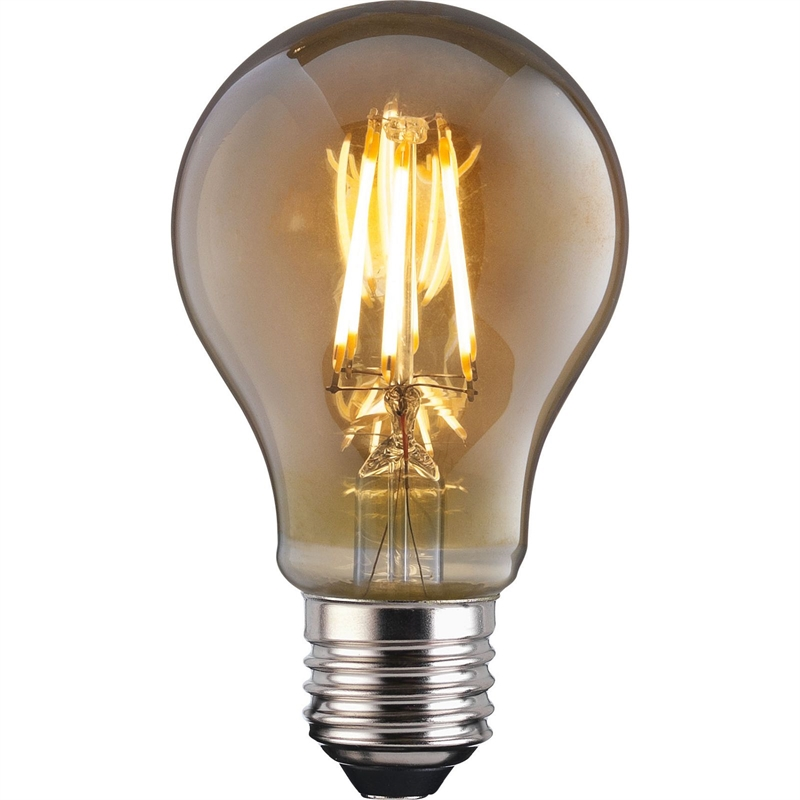Nonrec_Glass: (166, 8, 638, 790)
